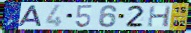2: (126, 5, 147, 28)
4: (45, 4, 65, 29)
5: (75, 4, 93, 28)
6: (98, 5, 118, 29)
A: (17, 5, 44, 28)
H: (146, 5, 173, 28)
